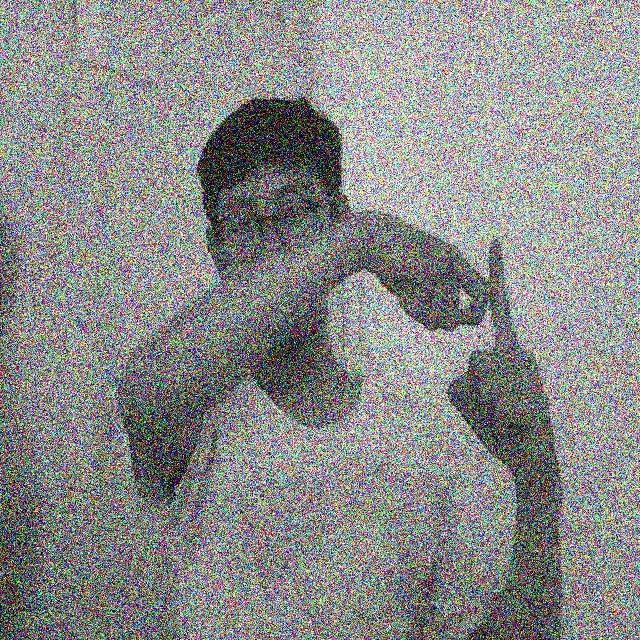K: (432, 220, 552, 424)
